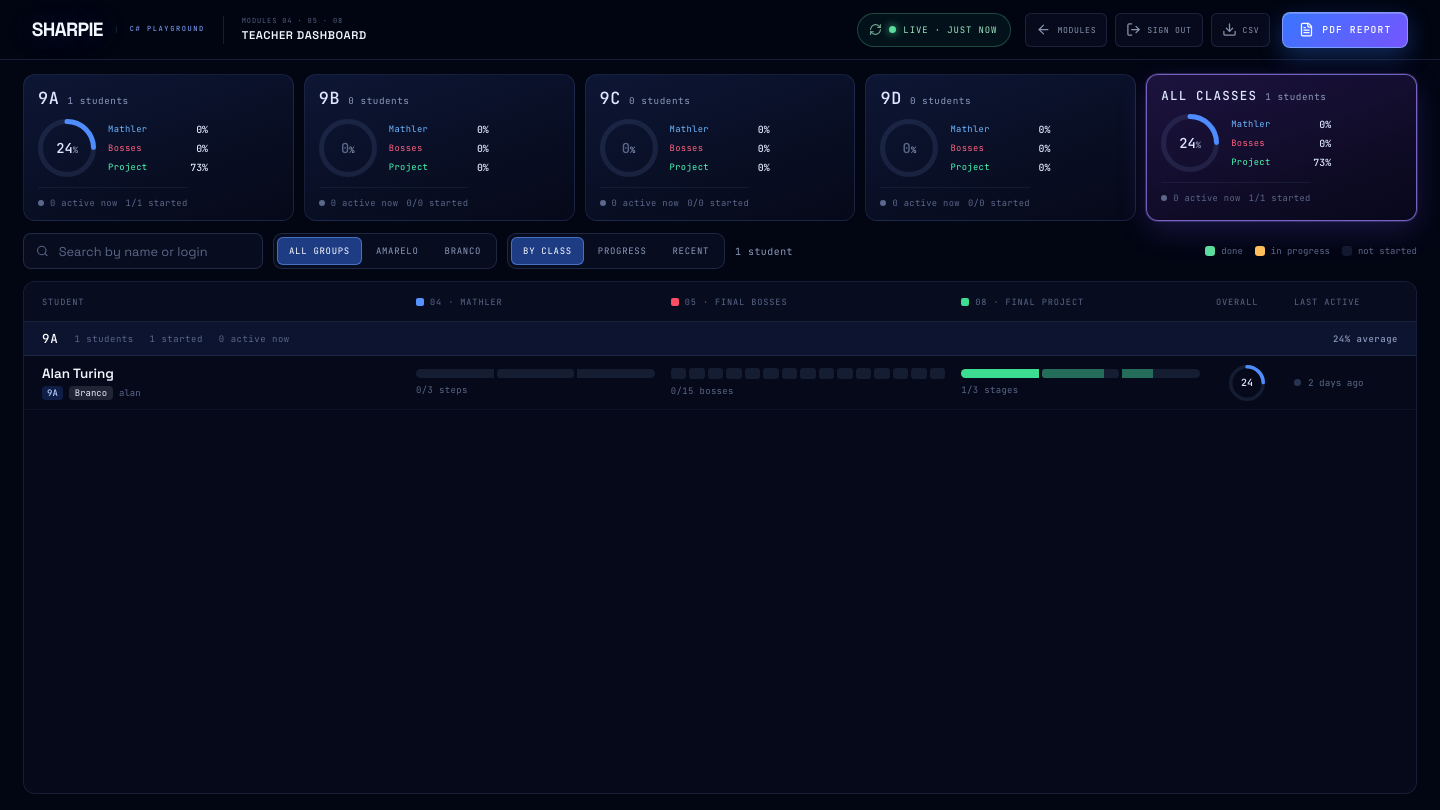
Scenario: Teacher dashboard › shows the Final project stages, missed questions and reflection
Check: the text "1/3 stages" is shown, box [961, 384, 1019, 396]
Click the text "Alan Turing": coordinates (78, 374) [42, 365, 114, 382]
(page scrolled)
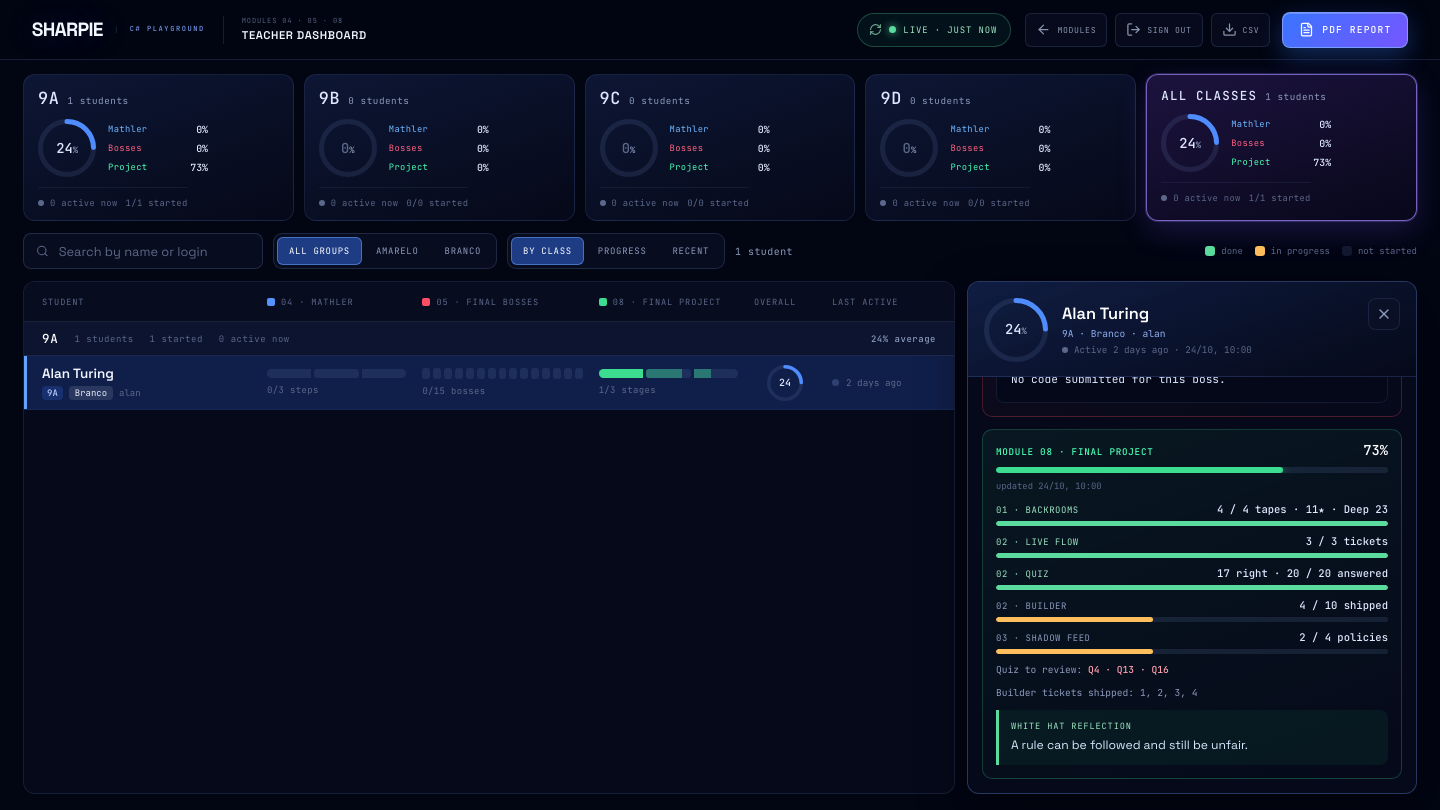
Check: the text "MODULE 08 · FINAL PROJECT" is shown, box [996, 446, 1154, 458]
Check: the text "4 / 4 tapes · 11★ · Deep 23" is shown, box [1217, 503, 1388, 517]
Check: the text "17 right · 20 / 20 answered" is shown, box [1217, 567, 1388, 581]
